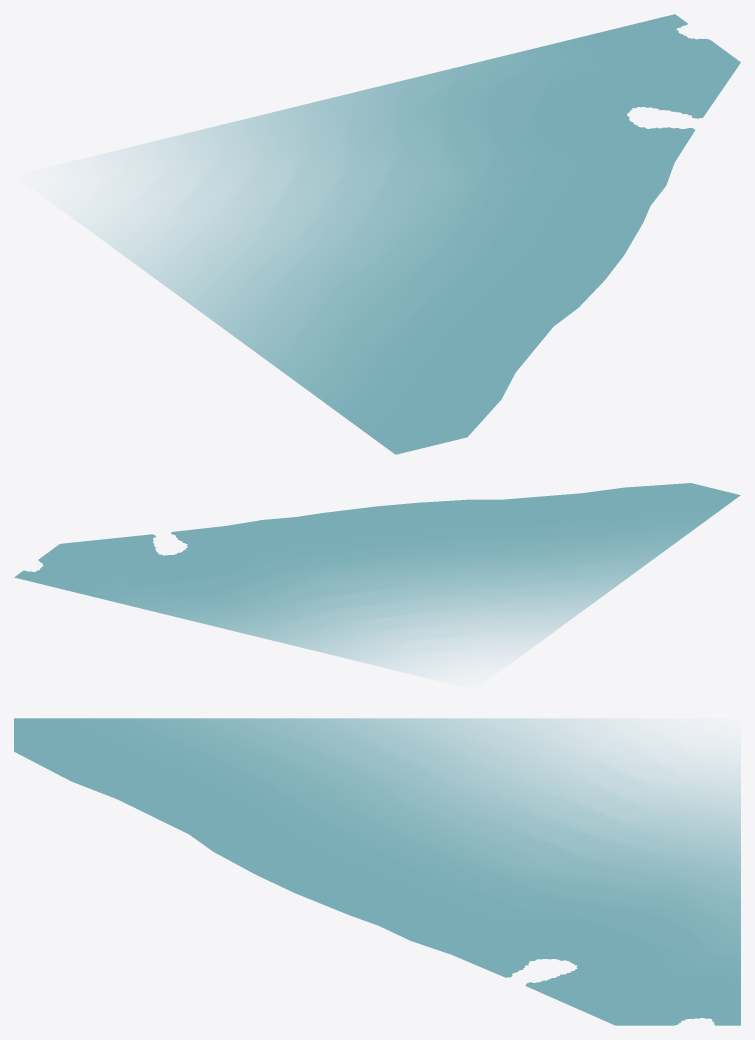
3 views of the same model, one above another, from view 1: azimuth 30°, elevation 25°; view 2: azimuth 150°, elevation 25°; view 3: azimuth 270°, elevation 25° (orthographic). The views are drawn at different scales.
Visible parts, largest first — view 1: city; view 2: city; view 3: city.
Boxes of the visible parts, x1,y1,x2,y2 form: city: (79, 14, 740, 454); city: (14, 483, 740, 674); city: (14, 718, 740, 1025).
Bounding box in the file's own units: 500 × 0 × 500.
